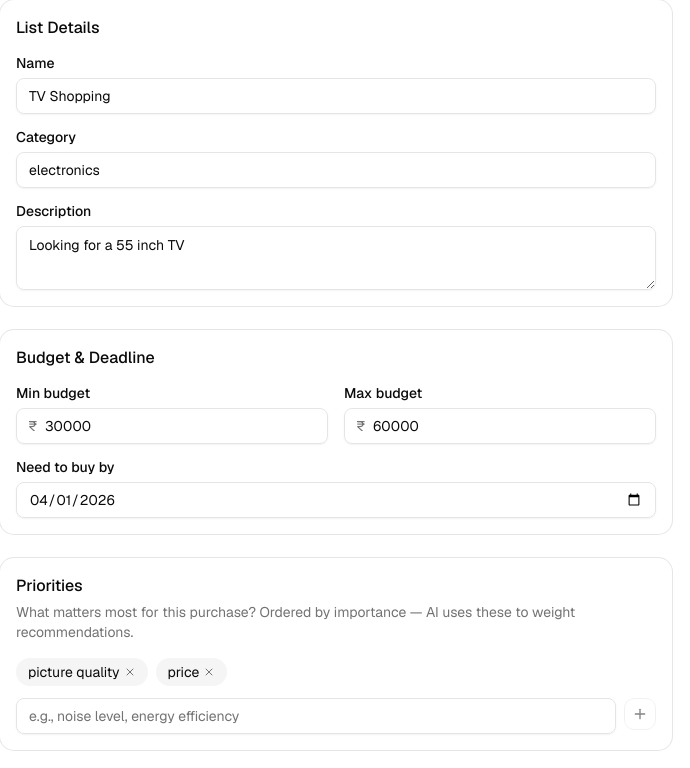
Test case: ListSettingsForm › adds a priority tag via Enter key
Type "build quality" into the field with placeholder "e.g., noise level, energy efficiency" at {"x": 316, "y": 716}, box [16, 698, 616, 734]
Then press Enter
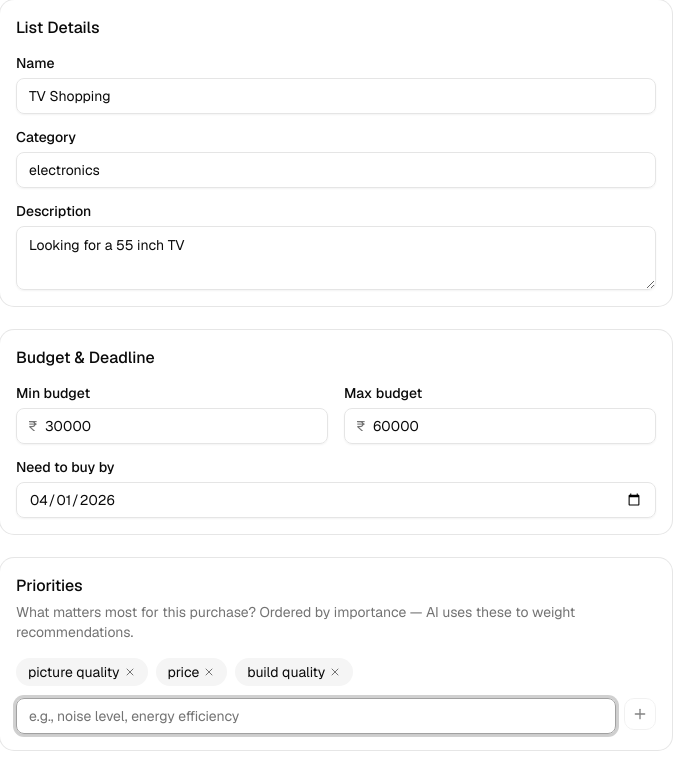
Expected: the text "build quality" is shown, [235, 658, 353, 686]
